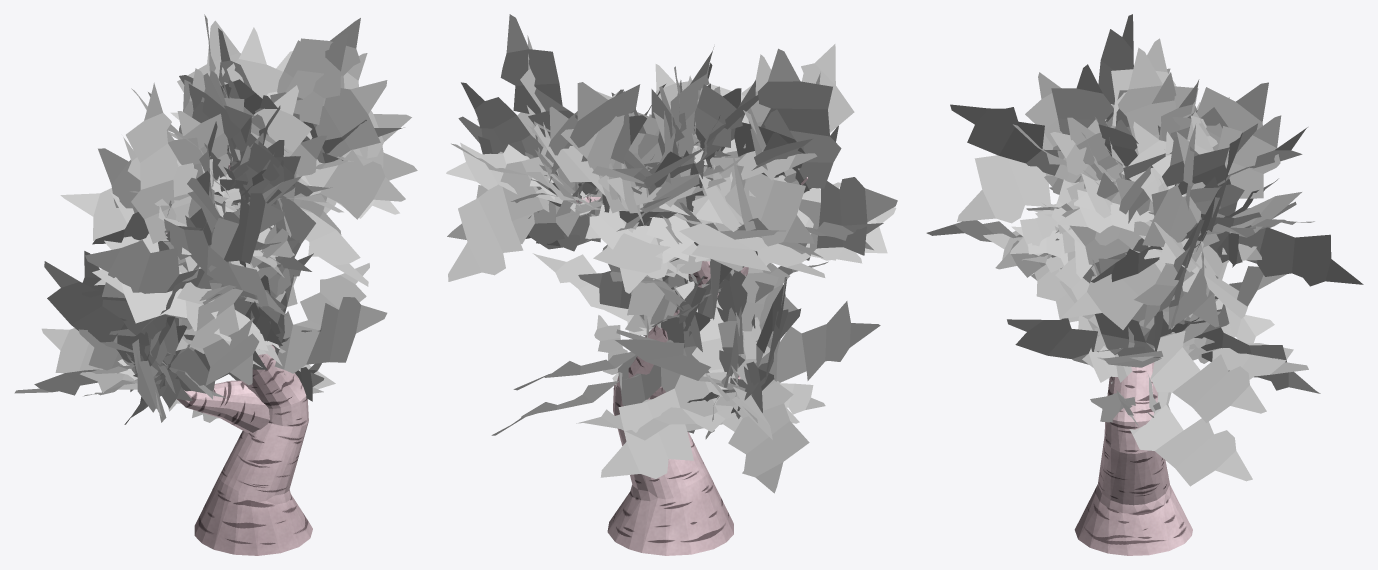
File: Tree 1.fbx
3 views of the same model, side by side, from view 1: azimuth 30°, elevation 25°; view 2: azimuth 150°, elevation 25°; view 3: azimuth 270°, elevation 25° (orthographic). The views are drawn at different scales.
Parts seen in each view (by area): view 1: Tree 1, Tree 1|Branch|Dupli|225, Tree 1|Branch|Dupli|293, Tree 1|Branch|Dupli|242, Tree 1|Branch|Dupli|235, Tree 1|Branch|Dupli|42, Tree 1|Branch|Dupli|99, Tree 1|Branch|Dupli|282, Tree 1|Branch|Dupli|223, Tree 1|Branch|Dupli|217, Tree 1|Branch|Dupli|120, Tree 1|Branch|Dupli|32 (+40 smaller); view 2: Tree 1, Tree 1|Branch|Dupli|281, Tree 1|Branch|Dupli|38, Tree 1|Branch|Dupli|225, Tree 1|Branch|Dupli|284, Tree 1|Branch|Dupli|273, Tree 1|Branch|Dupli|235, Tree 1|Branch|Dupli|152, Tree 1|Branch|Dupli|32, Tree 1|Branch|Dupli|84, Tree 1|Branch|Dupli|26, Tree 1|Branch|Dupli|149 (+58 smaller); view 3: Tree 1, Tree 1|Branch|Dupli|289, Tree 1|Branch|Dupli|245, Tree 1|Branch|Dupli|38, Tree 1|Branch|Dupli|223, Tree 1|Branch|Dupli|217, Tree 1|Branch|Dupli|102, Tree 1|Branch|Dupli|293, Tree 1|Branch|Dupli|103, Tree 1|Branch|Dupli|120, Tree 1|Branch|Dupli|202, Tree 1|Branch|Dupli|84 (+46 smaller).
Part boxes in pixels (x1,y1,x2,y2): Tree 1: [166, 164, 312, 555]; Tree 1|Branch|Dupli|225: [126, 82, 179, 243]; Tree 1|Branch|Dupli|293: [274, 297, 387, 373]; Tree 1|Branch|Dupli|242: [190, 288, 259, 385]; Tree 1|Branch|Dupli|235: [85, 240, 228, 298]; Tree 1|Branch|Dupli|42: [298, 149, 405, 219]; Tree 1|Branch|Dupli|99: [302, 80, 387, 157]; Tree 1|Branch|Dupli|282: [44, 261, 163, 370]; Tree 1|Branch|Dupli|223: [164, 219, 290, 319]; Tree 1|Branch|Dupli|217: [208, 193, 284, 271]; Tree 1|Branch|Dupli|120: [277, 34, 348, 124]; Tree 1|Branch|Dupli|32: [270, 18, 360, 121]; Tree 1: [576, 177, 807, 555]; Tree 1|Branch|Dupli|281: [600, 372, 742, 478]; Tree 1|Branch|Dupli|38: [448, 157, 549, 281]; Tree 1|Branch|Dupli|225: [758, 48, 841, 188]; Tree 1|Branch|Dupli|284: [715, 377, 809, 493]; Tree 1|Branch|Dupli|273: [755, 301, 880, 382]; Tree 1|Branch|Dupli|235: [799, 177, 897, 260]; Tree 1|Branch|Dupli|152: [695, 157, 814, 246]; Tree 1|Branch|Dupli|32: [500, 14, 562, 176]; Tree 1|Branch|Dupli|84: [570, 82, 658, 201]; Tree 1|Branch|Dupli|26: [593, 225, 670, 293]; Tree 1|Branch|Dupli|149: [561, 112, 699, 176]; Tree 1: [1074, 362, 1192, 555]; Tree 1|Branch|Dupli|289: [1150, 330, 1266, 422]; Tree 1|Branch|Dupli|245: [1129, 392, 1252, 486]; Tree 1|Branch|Dupli|38: [1202, 212, 1363, 286]; Tree 1|Branch|Dupli|223: [957, 133, 1054, 223]; Tree 1|Branch|Dupli|217: [950, 104, 1060, 175]; Tree 1|Branch|Dupli|102: [1060, 250, 1202, 329]; Tree 1|Branch|Dupli|293: [1007, 318, 1145, 364]; Tree 1|Branch|Dupli|103: [1218, 115, 1281, 211]; Tree 1|Branch|Dupli|120: [1162, 137, 1244, 216]; Tree 1|Branch|Dupli|202: [1051, 64, 1113, 134]; Tree 1|Branch|Dupli|84: [1197, 82, 1268, 150].
Size of the model in its own units: 408 by 500 by 423.
